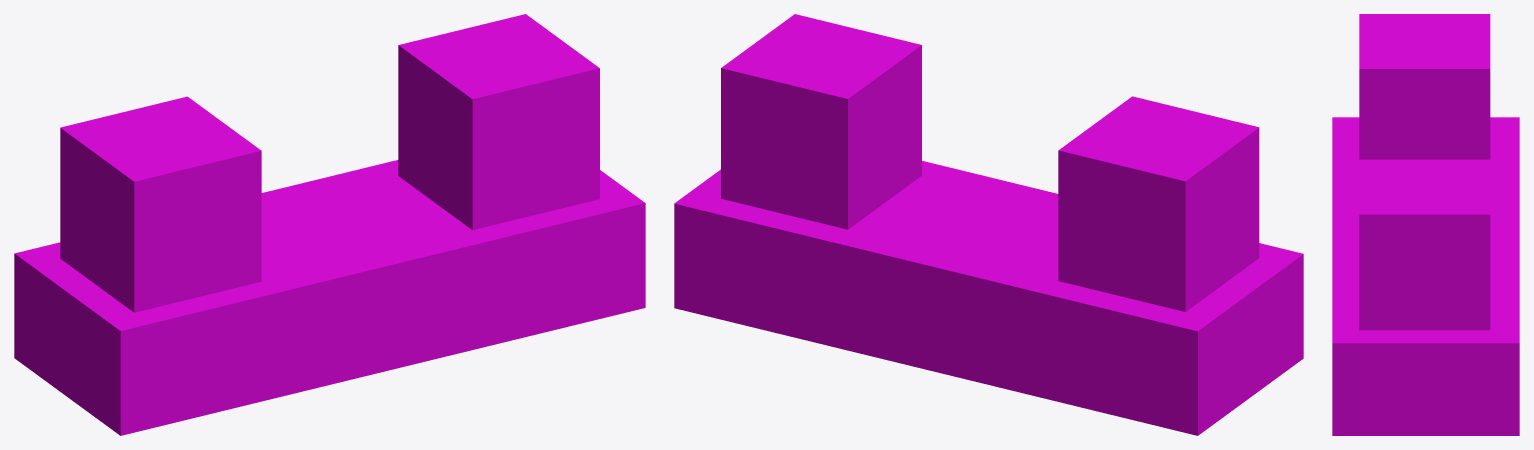
Rendered from cruch.fbx.
The picture shows the model from 3 angles, left to right: view 1: azimuth 30°, elevation 25°; view 2: azimuth 150°, elevation 25°; view 3: azimuth 270°, elevation 25°; orthographic projection. The views are drawn at different scales.
Parts seen in each view (by area): view 1: cruch; view 2: cruch; view 3: cruch.
Part boxes in pixels (x1,y1,x2,y2): cruch: (14, 14, 645, 435); cruch: (674, 14, 1303, 435); cruch: (1332, 14, 1519, 435).
Size of the model in its own units: 8.32 by 3.57 by 2.91.
